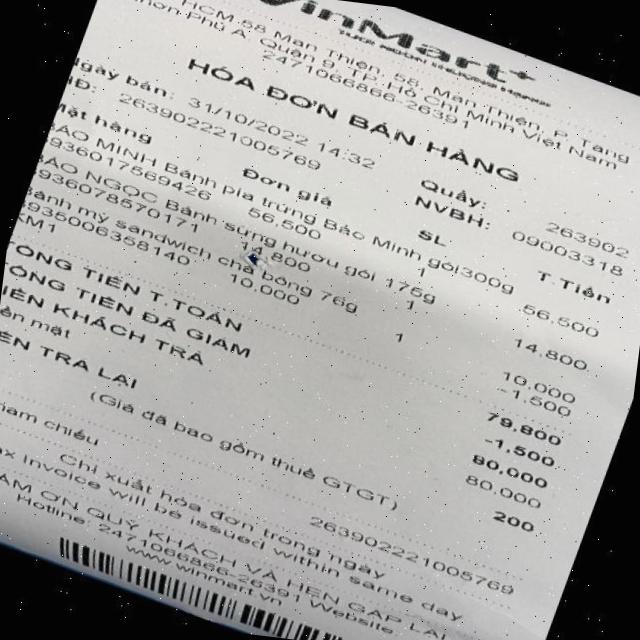Date: (176, 88, 315, 149)
Store_Name: (174, 0, 576, 114)
amount_number: (455, 394, 576, 456)
label_total: (6, 230, 259, 338)
